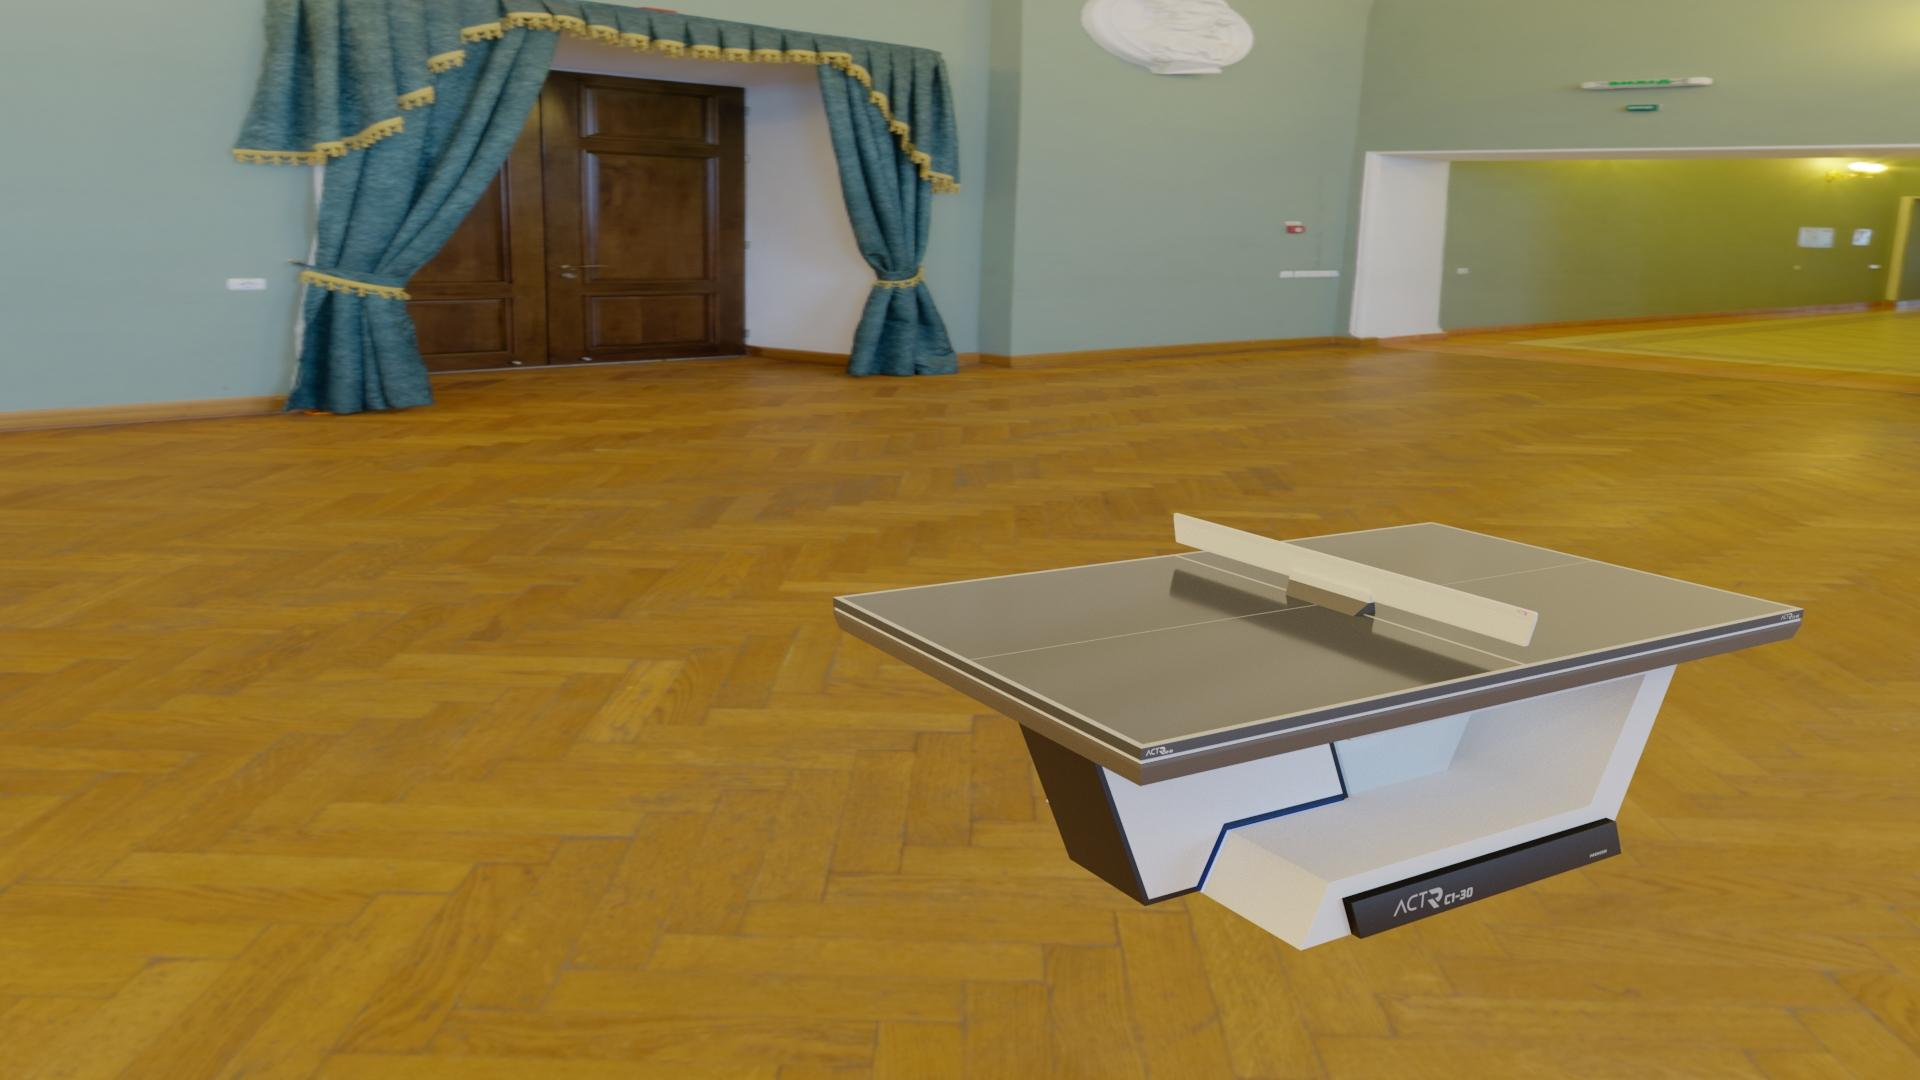table: (841, 524, 1795, 744)
